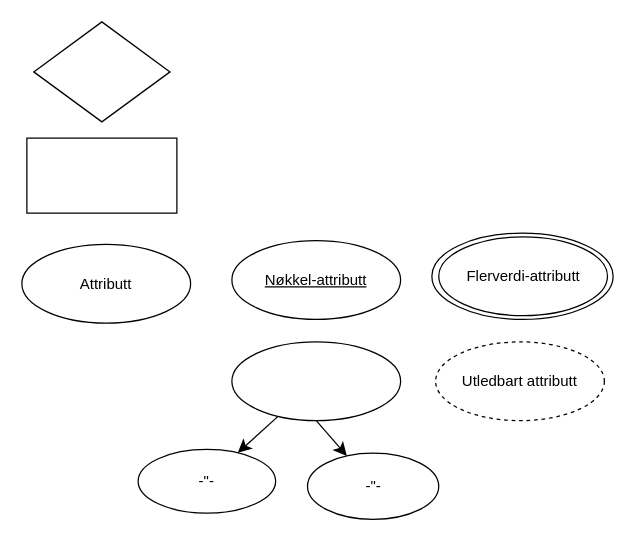
The diagram is 635 pixels wide and 541 high, and some of its shapes have lost their labels. Here are the shapes that lost their labels. From the top down, the box of each, then its label:
(32, 21, 170, 122): Relasjon
(26, 137, 177, 213): Entitet
(231, 341, 401, 421): Sammensatt attributt
